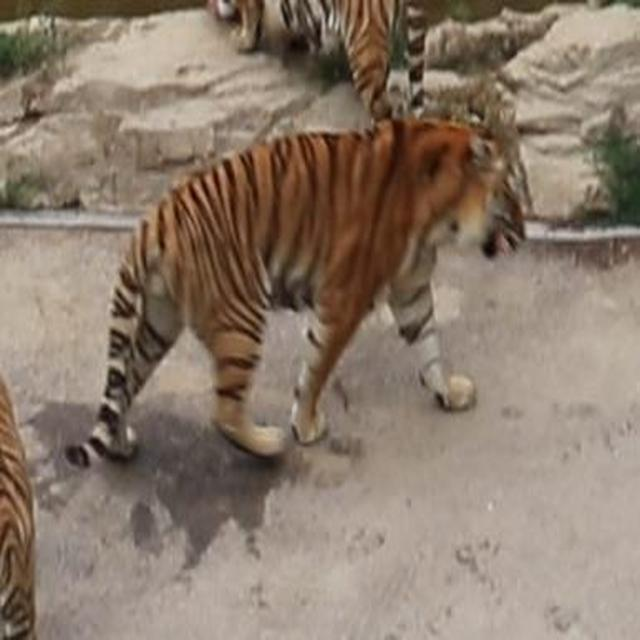tiger: (62, 107, 546, 471), (0, 349, 102, 640), (207, 0, 438, 126)
